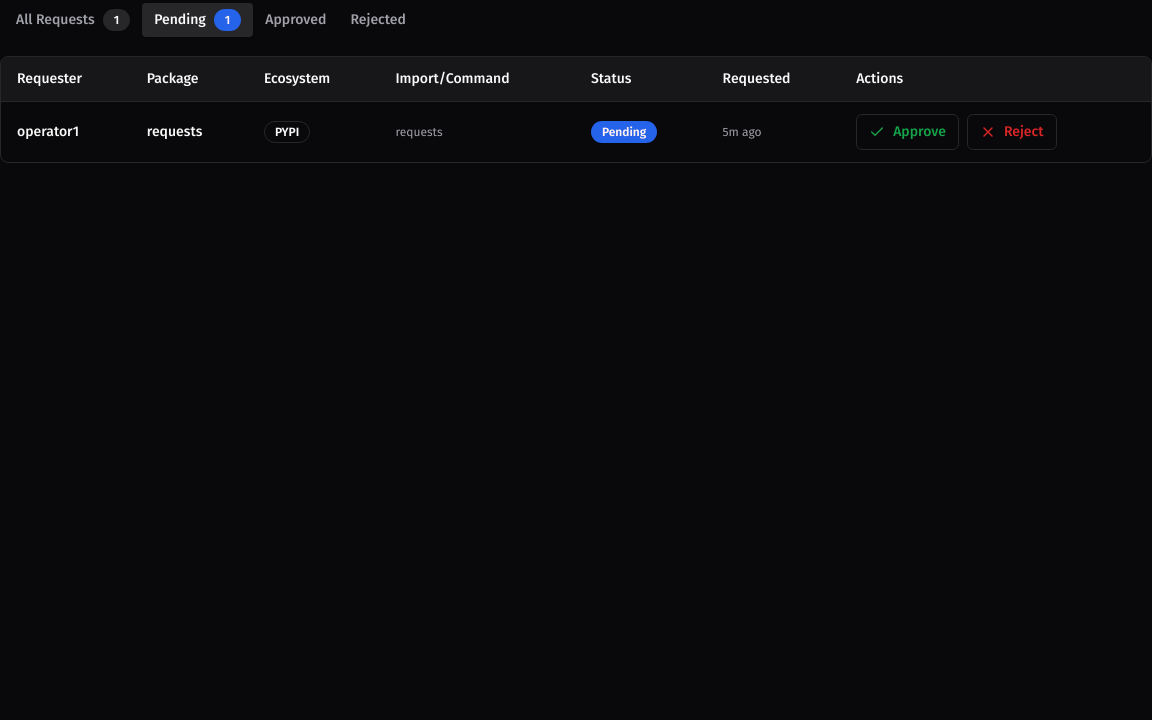
ApprovalQueuePanel Component › Reject Action › should close dialog after successful rejection
Click the button "Reject" at (1012, 132), box x1=967 y1=114 x2=1056 y2=150
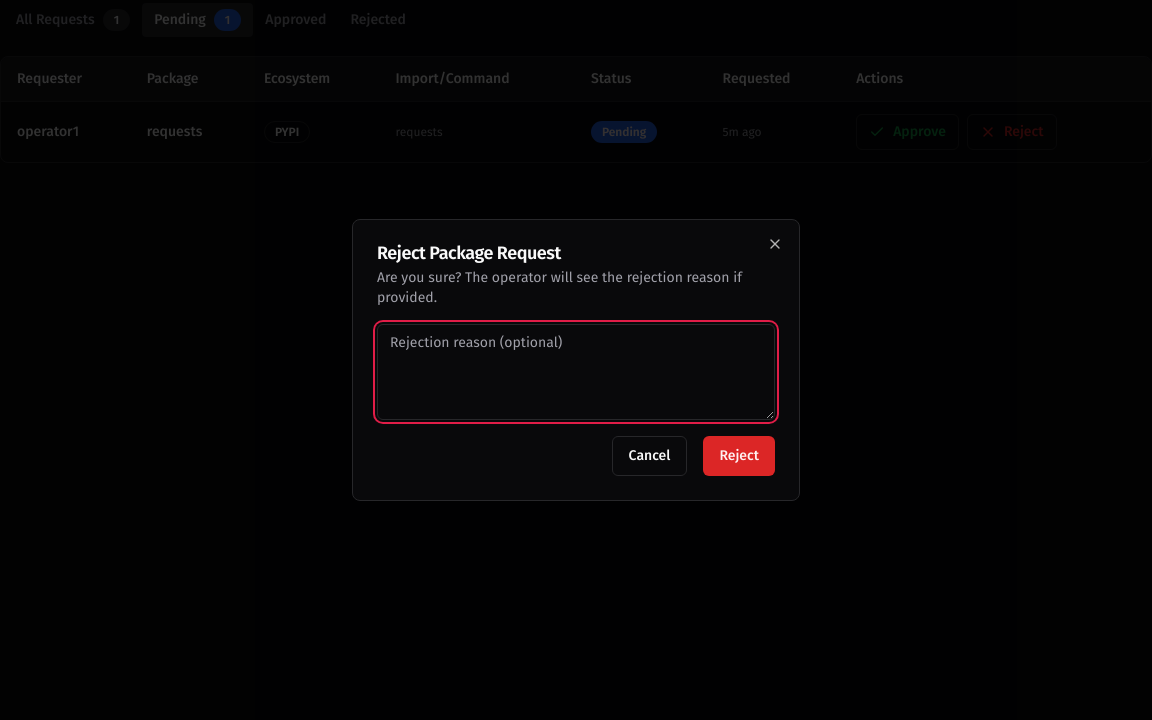
Click the button "Reject" at (739, 456), box x1=703 y1=436 x2=775 y2=476
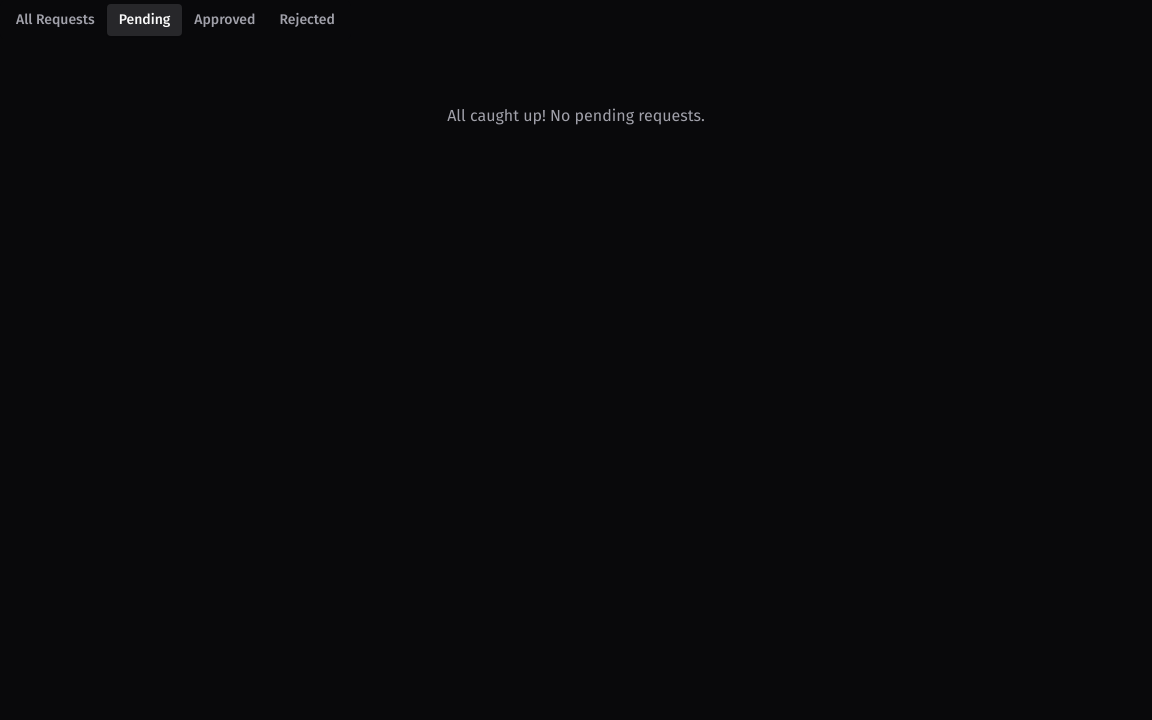
Result: the dialog is gone
